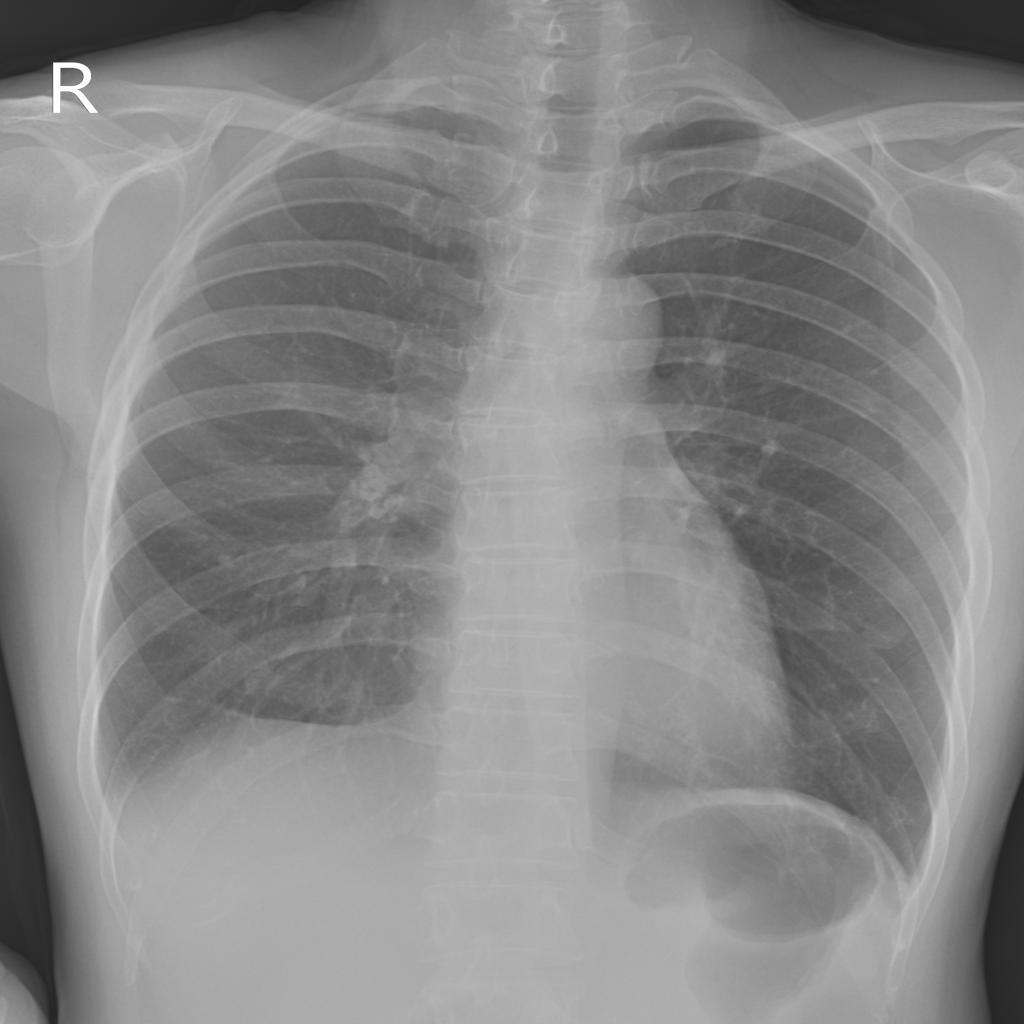Nodule: (863, 610, 910, 649)
